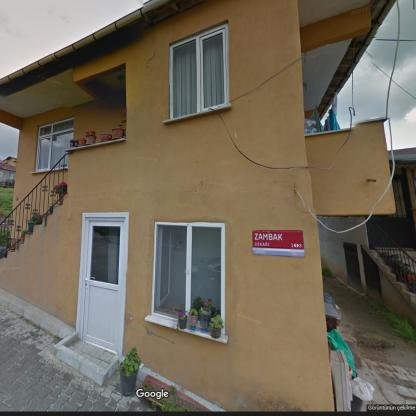door: (78, 216, 125, 354), (364, 176, 415, 249)
window: (152, 222, 223, 320), (167, 24, 226, 118), (35, 118, 76, 170)
